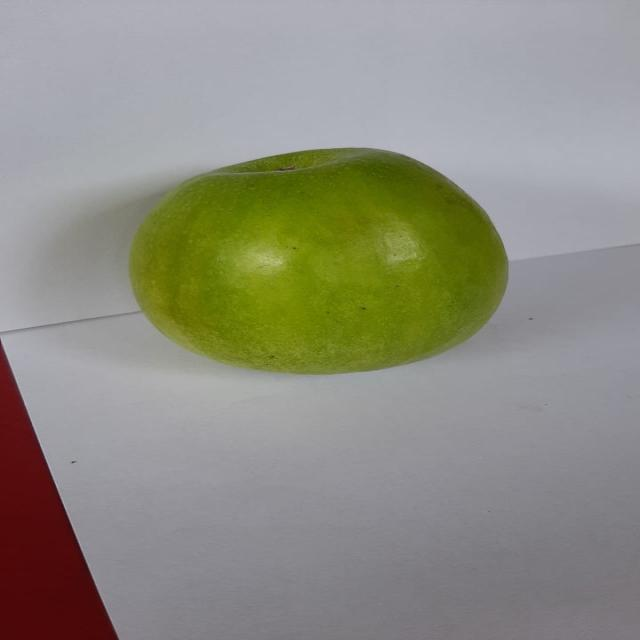50-_ripeness: (107, 132, 522, 382)
